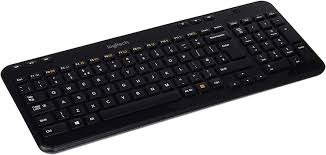keyboard: (0, 0, 326, 155)
